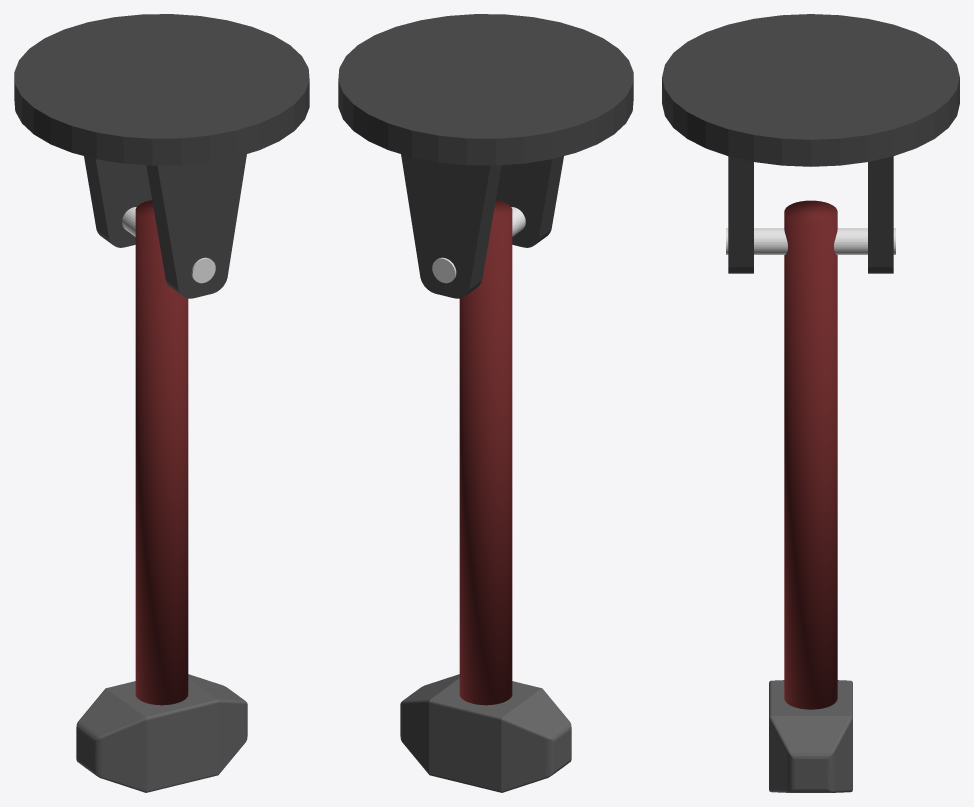
The model's file is pole.fbx.
3 views of the same model, side by side, from view 1: azimuth 30°, elevation 25°; view 2: azimuth 150°, elevation 25°; view 3: azimuth 270°, elevation 25° (orthographic).
Visible parts, largest first — view 1: Base, Pole, Weight, PoleSupport; view 2: Base, Pole, Weight, PoleSupport; view 3: Base, Pole, Weight, PoleSupport.
Boxes of the visible parts, x1=… form: Base: x1=14, y1=14, x2=309, y2=298; Pole: x1=135, y1=200, x2=188, y2=705; Weight: x1=76, y1=674, x2=247, y2=792; PoleSupport: x1=122, y1=207, x2=215, y2=283; Base: x1=338, y1=14, x2=633, y2=298; Pole: x1=459, y1=200, x2=512, y2=705; Weight: x1=400, y1=674, x2=571, y2=792; PoleSupport: x1=432, y1=207, x2=525, y2=283; Base: x1=662, y1=14, x2=959, y2=273; Pole: x1=784, y1=200, x2=837, y2=709; Weight: x1=769, y1=680, x2=852, y2=792; PoleSupport: x1=726, y1=228, x2=895, y2=254.
Bounding box in the file's own units: 2 × 5.2 × 2.
